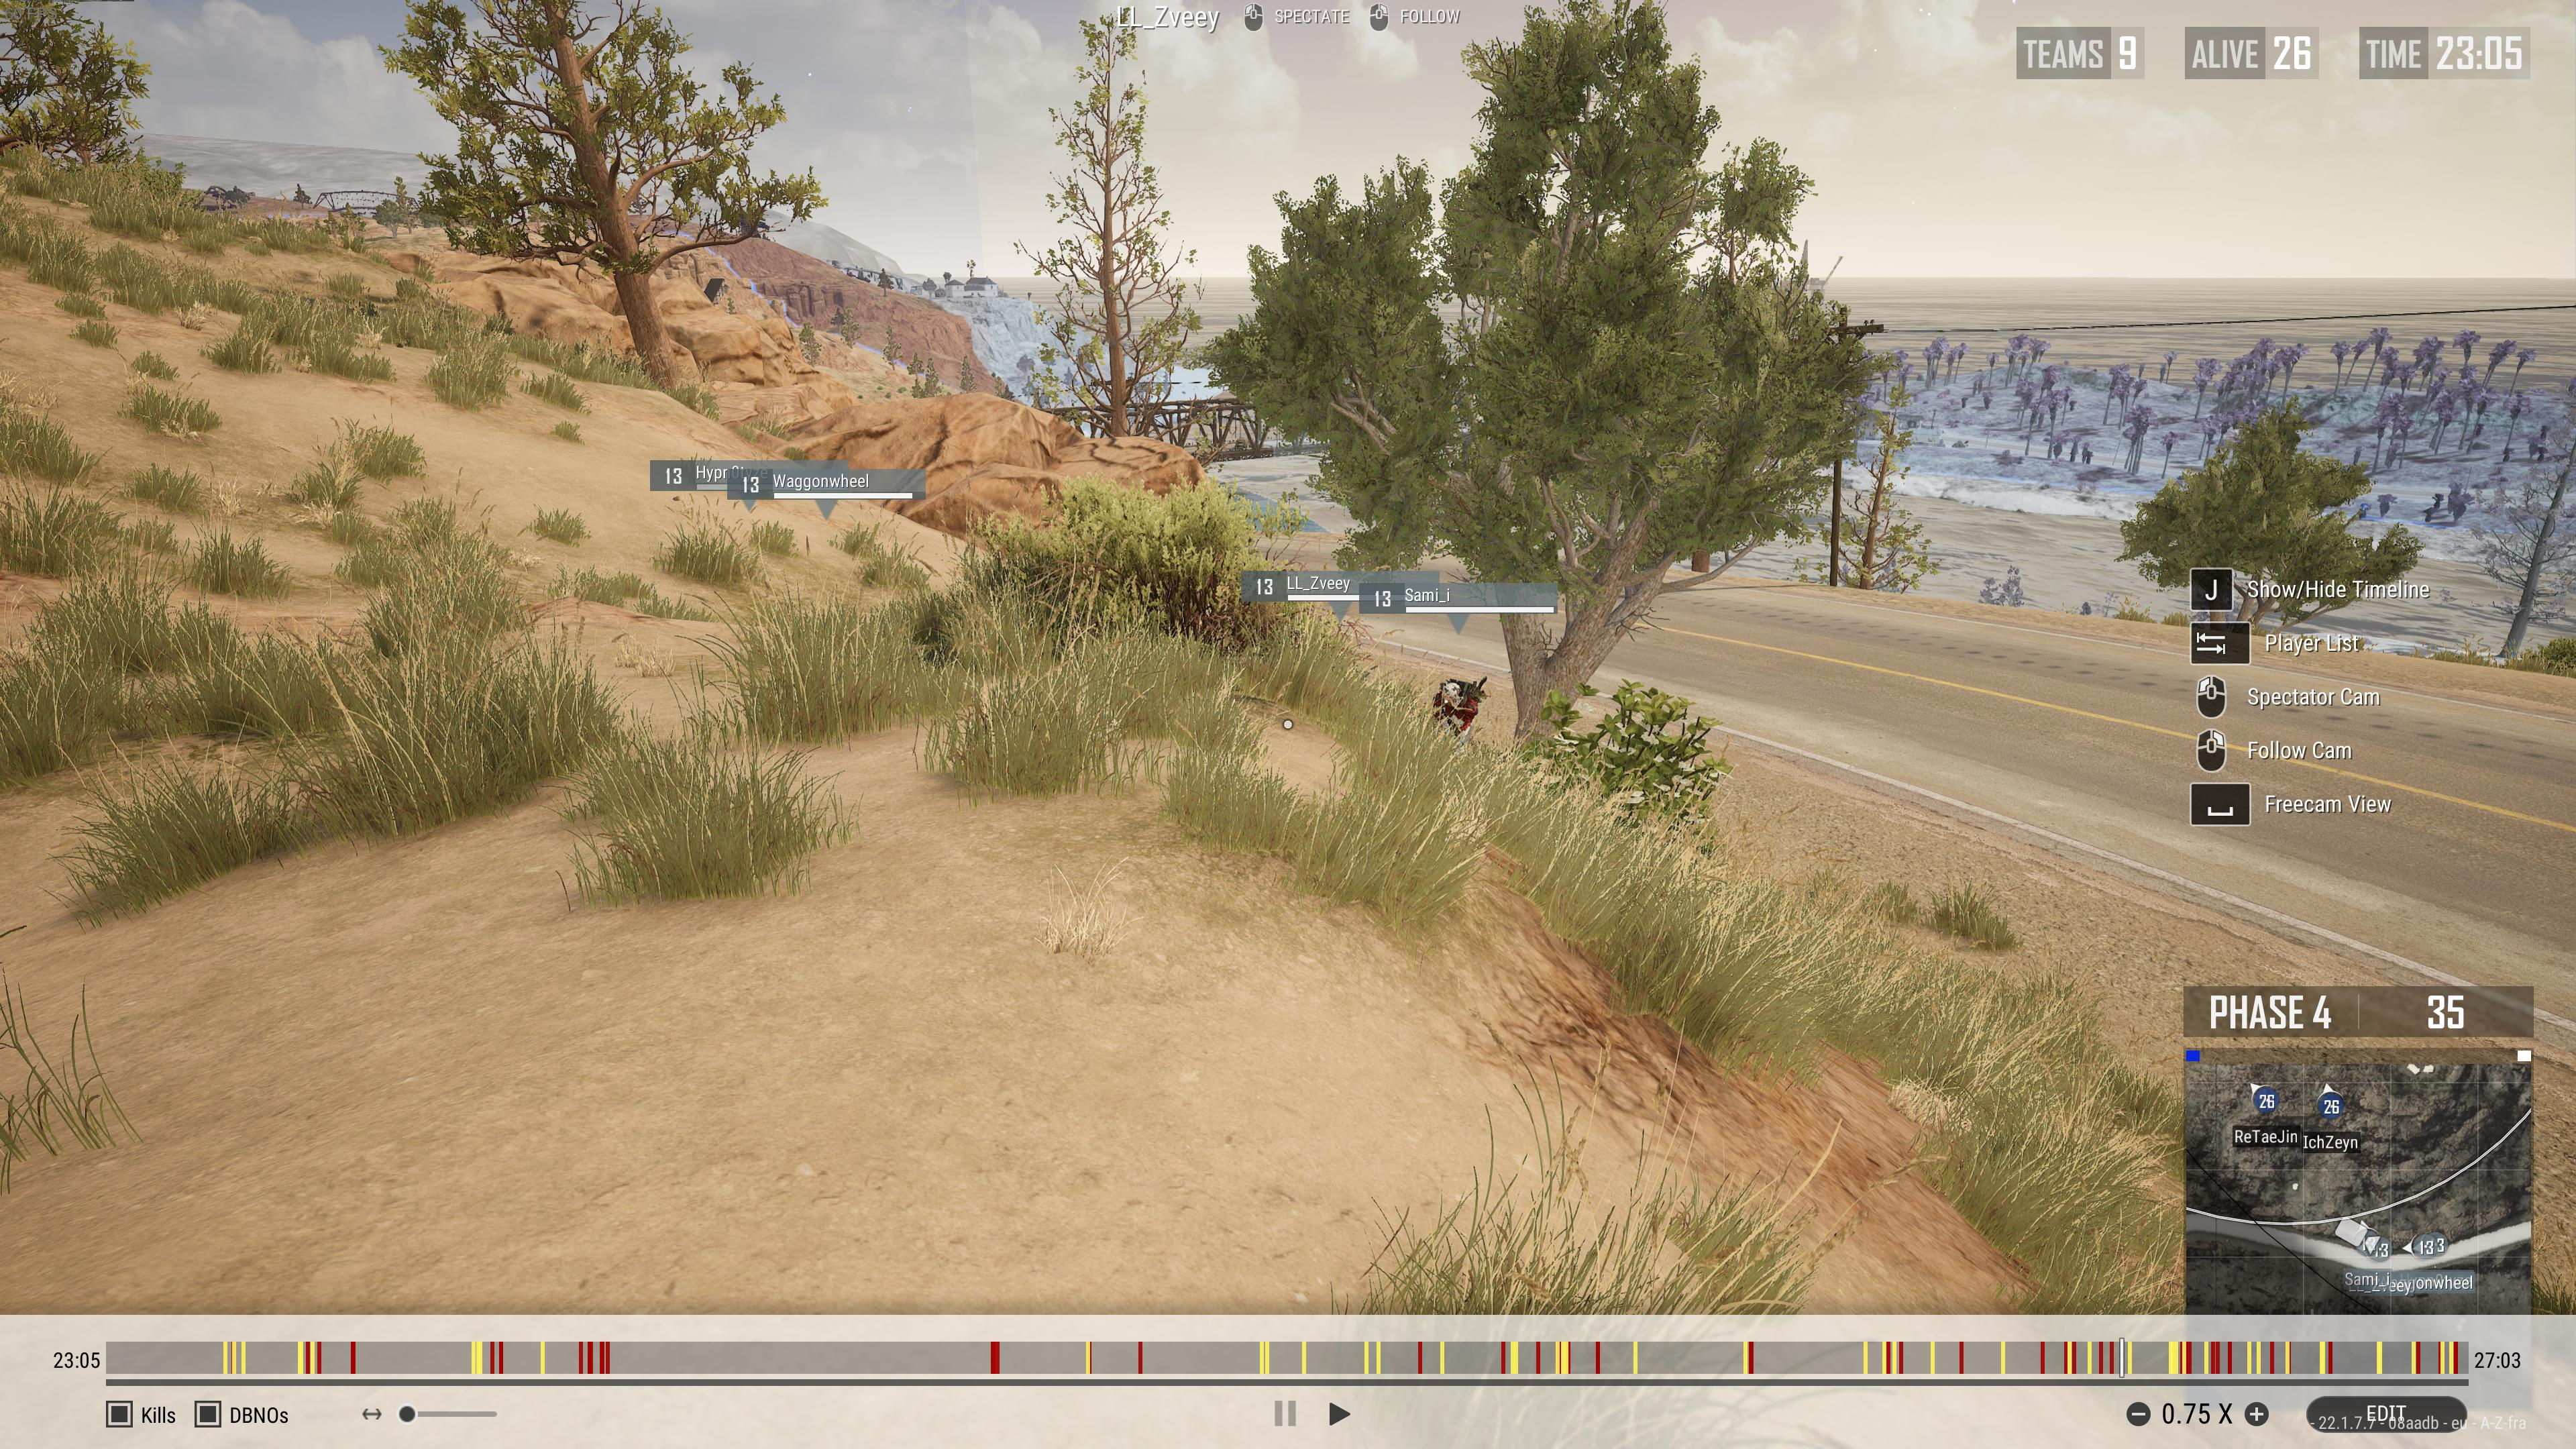enemy: (1433, 678, 1477, 754)
enemy_head: (1442, 683, 1461, 706)
